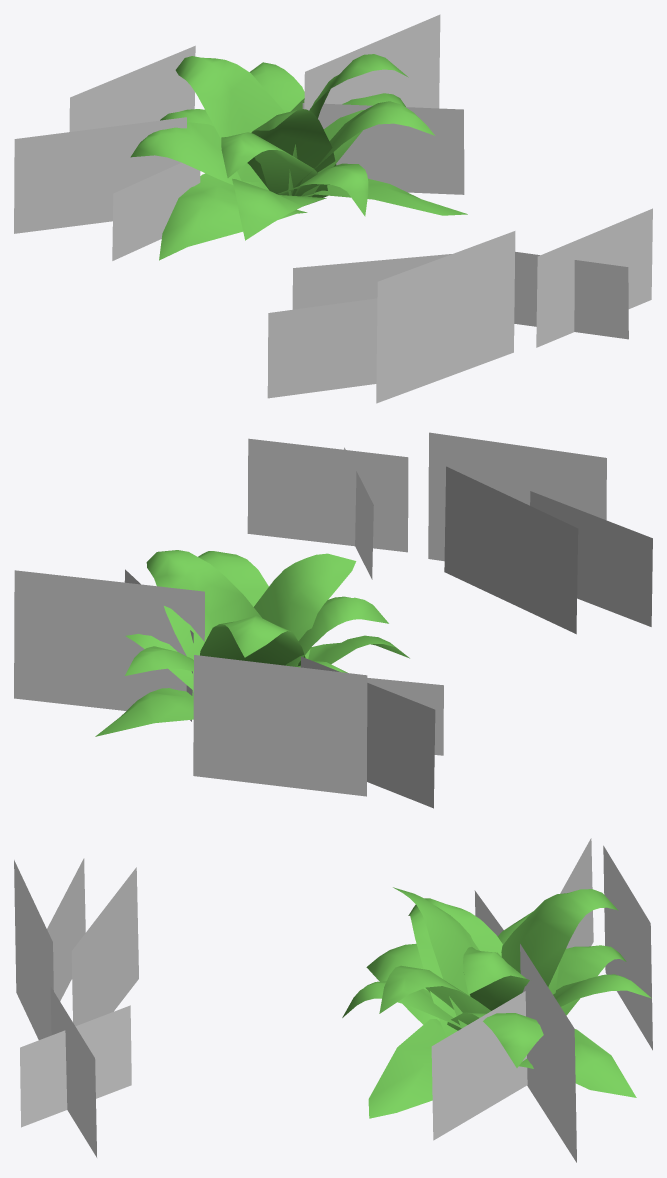
File: Plattform-Tiles.fbx_Gr_nzeug-2m.fbx
3 views of the same model, one above another, from view 1: azimuth 30°, elevation 25°; view 2: azimuth 150°, elevation 25°; view 3: azimuth 270°, elevation 25° (orthographic). The views are drawn at different scales.
Visible parts, largest first — view 1: Grünzeug-2m; view 2: Grünzeug-2m; view 3: Grünzeug-2m.
Boxes of the visible parts, box(x1,y1,x2,y2) form: Grünzeug-2m: box(14, 14, 652, 403); Grünzeug-2m: box(14, 432, 652, 808); Grünzeug-2m: box(14, 838, 652, 1162).
Size of the model in its own units: 309 by 81.86 by 254.
